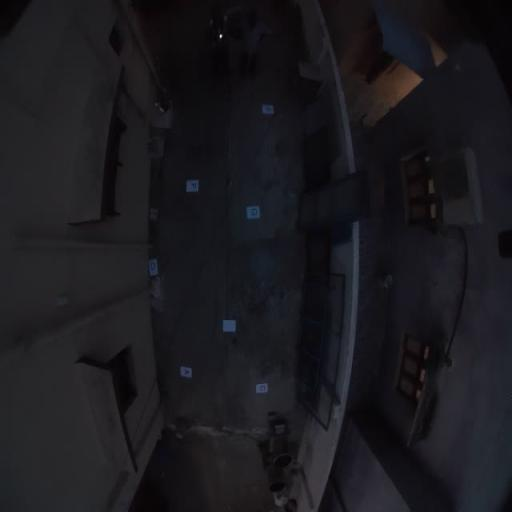A: (180, 366, 192, 379)
C: (256, 383, 268, 395)
D: (149, 257, 158, 276)
E: (262, 104, 274, 115)
F: (186, 179, 198, 192)
G: (246, 204, 260, 218)
